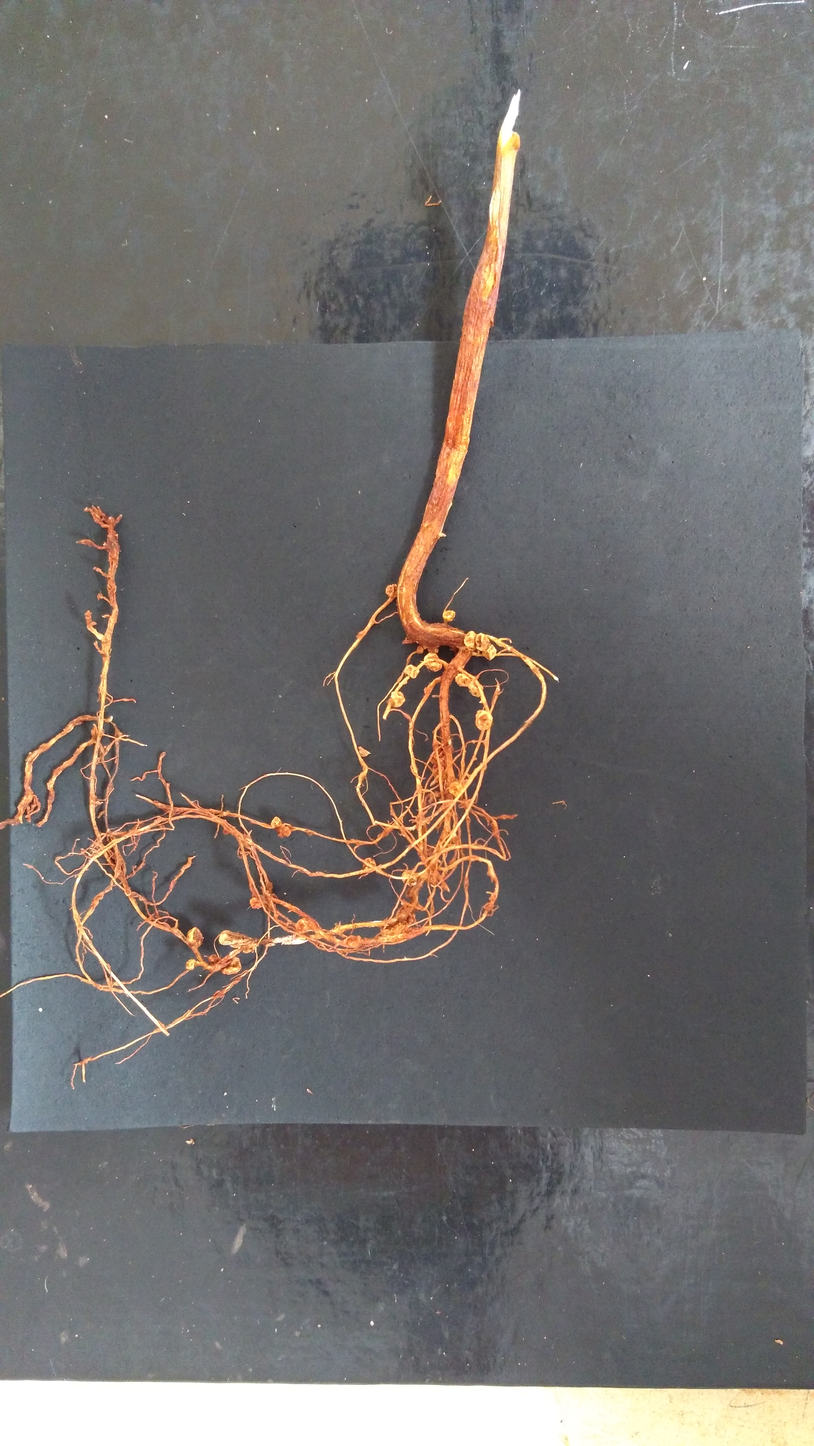nodule: (218, 930, 249, 946), (379, 917, 402, 937), (395, 903, 415, 925), (474, 710, 493, 731), (186, 926, 203, 949), (229, 940, 256, 954), (221, 956, 242, 974), (423, 653, 442, 672), (259, 893, 278, 912), (433, 746, 448, 767), (475, 632, 490, 652), (463, 631, 477, 651), (390, 691, 406, 708), (401, 869, 417, 886), (482, 643, 497, 661), (467, 681, 483, 697), (449, 781, 464, 798), (455, 672, 471, 687), (361, 857, 376, 872), (295, 918, 310, 933), (403, 664, 419, 678), (276, 824, 291, 838), (347, 935, 363, 948), (428, 791, 442, 805), (385, 584, 398, 598), (249, 896, 263, 909), (432, 763, 444, 776), (208, 954, 221, 966), (270, 816, 282, 828), (358, 746, 371, 757), (443, 610, 455, 621), (185, 959, 196, 971), (427, 647, 439, 654), (416, 645, 424, 653), (223, 829, 230, 835)
